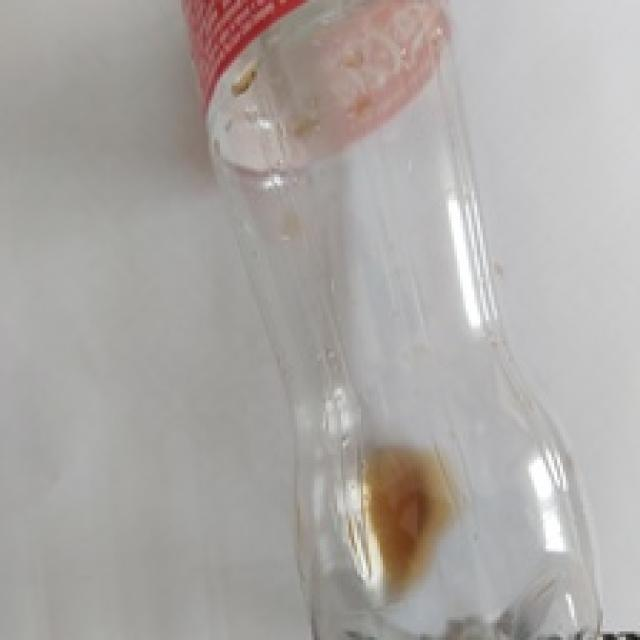good: (191, 1, 618, 640)
